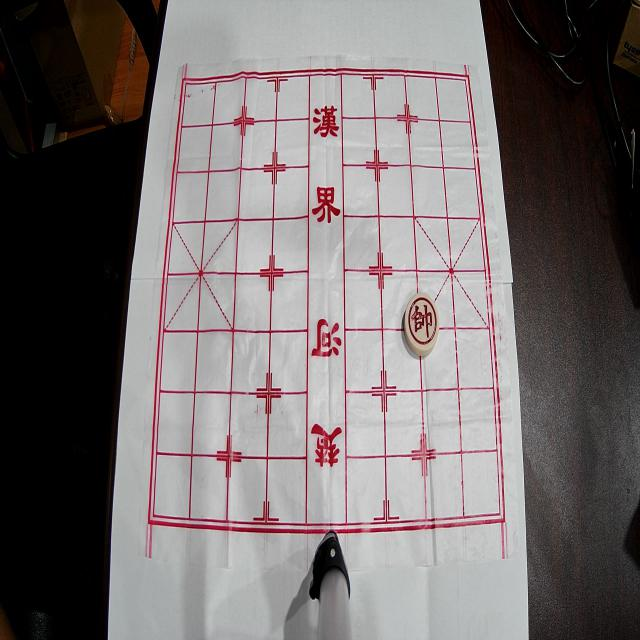red-general: (404, 292, 440, 356)
